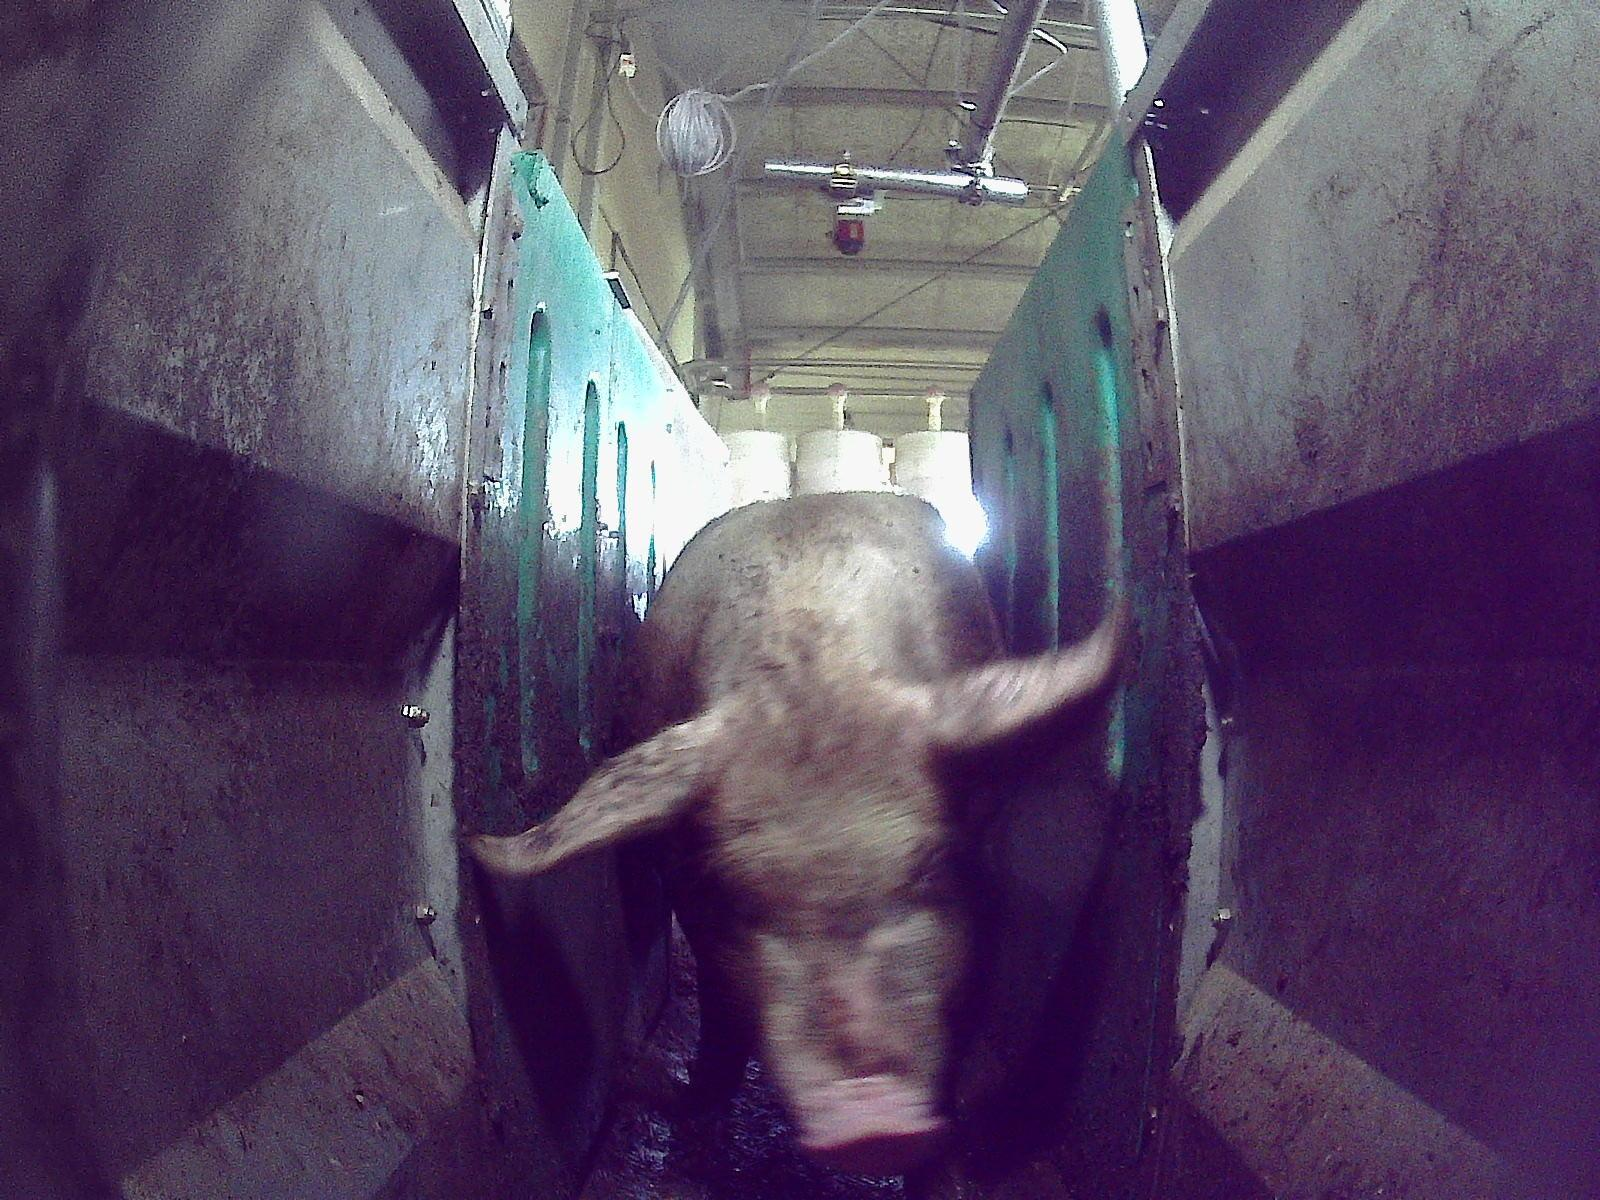Face: (678, 665, 988, 1177)
